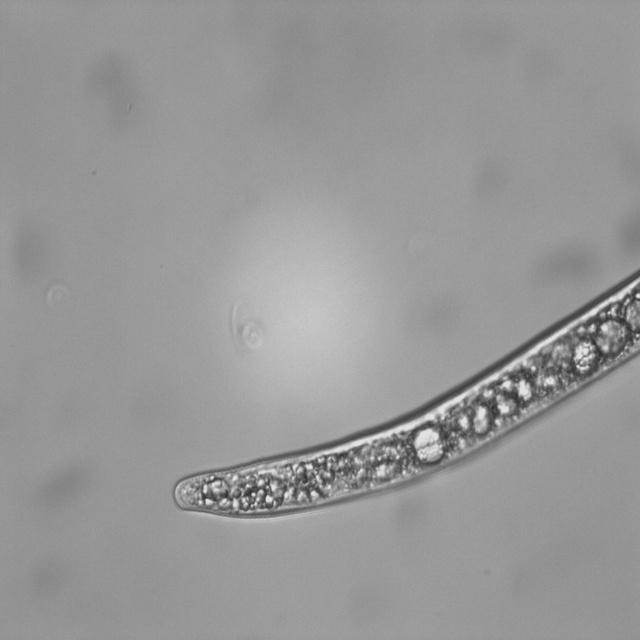Pratylenchus: (170, 268, 640, 526)
